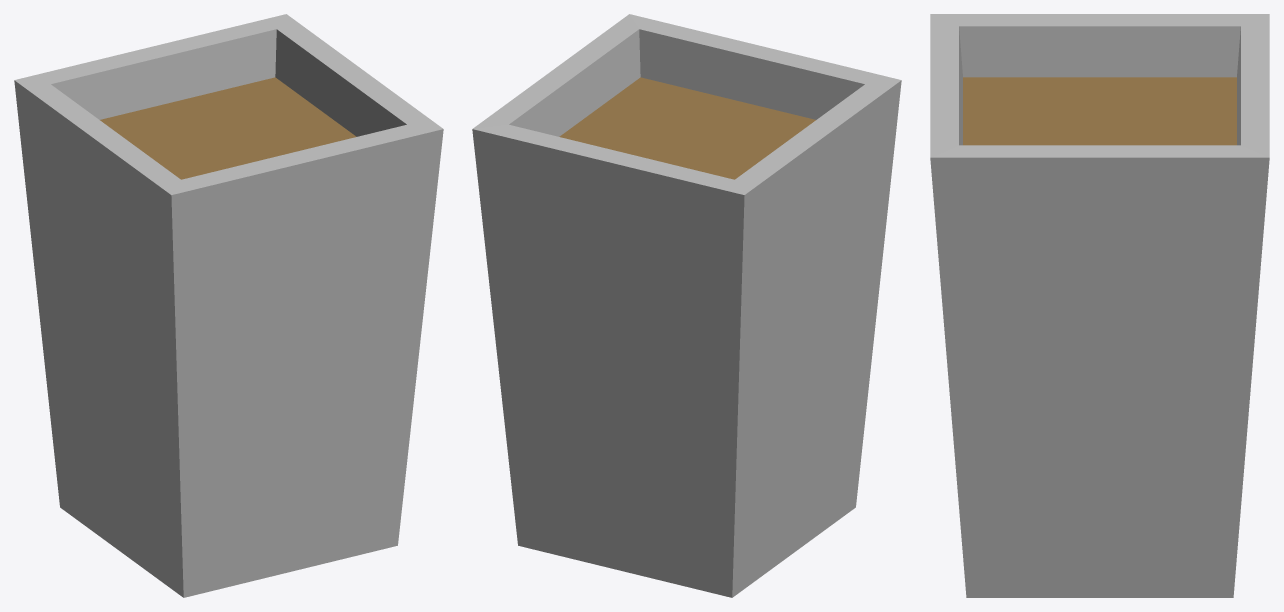
Rendered from Itr_Obj_Flowerpot1_Base_01.FBX.
3 renders of one model, left to right at view 1: azimuth 30°, elevation 25°; view 2: azimuth 150°, elevation 25°; view 3: azimuth 270°, elevation 25°, orthographic. The views are drawn at different scales.
Parts seen in each view (by area): view 1: Itr_Obj_Flowerpot1_Base_01; view 2: Itr_Obj_Flowerpot1_Base_01; view 3: Itr_Obj_Flowerpot1_Base_01.
Part boxes in pixels (box(x1,y1,x2,y2)): Itr_Obj_Flowerpot1_Base_01: box(14, 14, 443, 597); Itr_Obj_Flowerpot1_Base_01: box(472, 14, 901, 597); Itr_Obj_Flowerpot1_Base_01: box(930, 14, 1269, 597).
Bounding box in the file's own units: 18.75 × 27.77 × 18.75.
